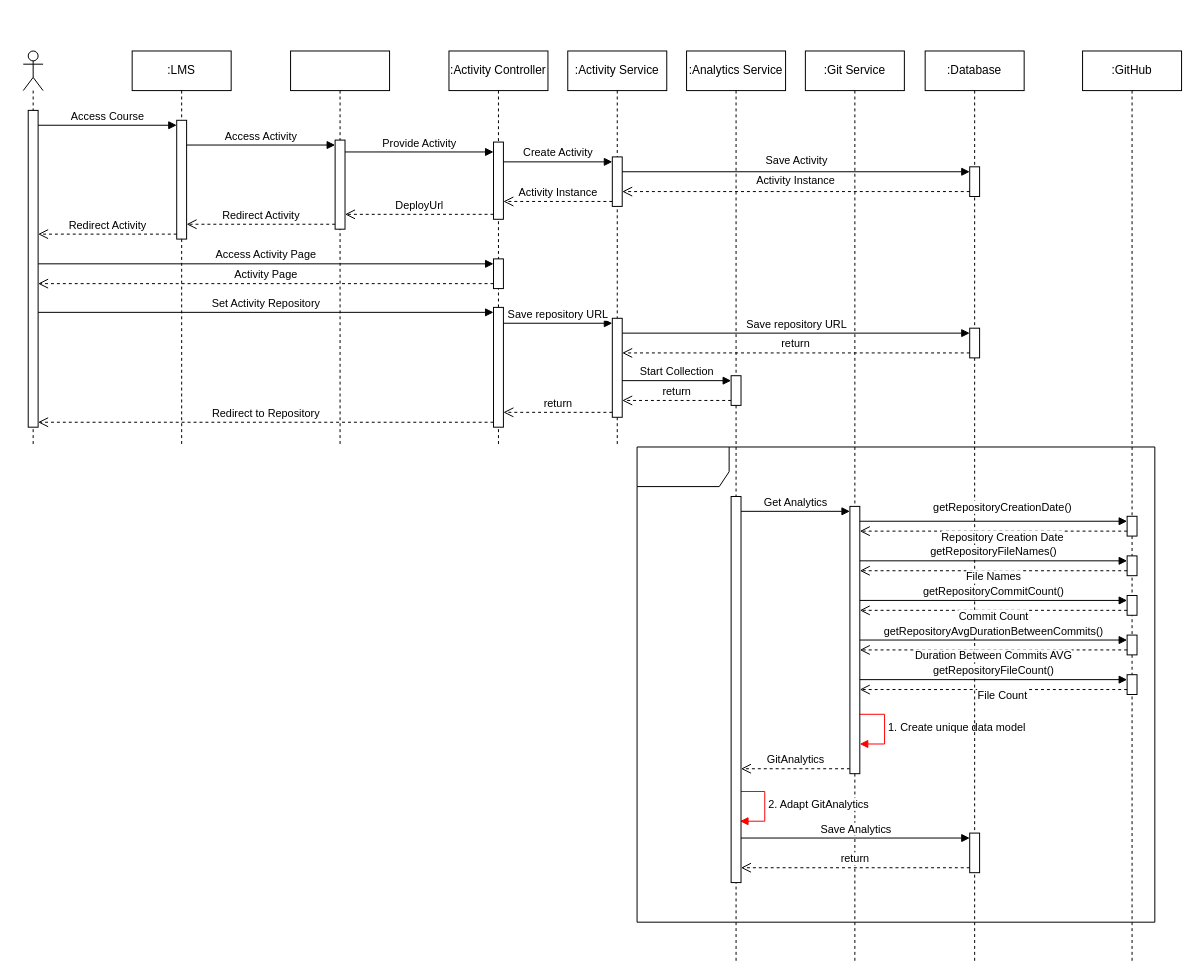
Some shapes in this 1199 by 979 pixel diagram are drawn without their labels. The box of each missing label's shape, as (x1, y1, x2, y2) in pixels:
:Inven!RA: (290, 50, 390, 447)
Active Agent: (22, 50, 43, 447)
Periodic Collection Loop: (636, 446, 1155, 922)
